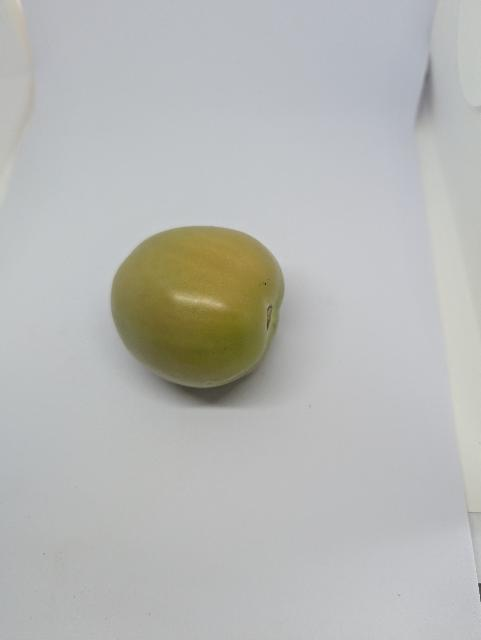breaker: (112, 221, 287, 400)
